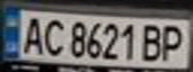1: (118, 20, 142, 61)
2: (100, 20, 124, 61)
6: (84, 19, 106, 61)
8: (66, 18, 87, 58)
A: (18, 13, 48, 55)
B: (139, 20, 169, 62)
C: (39, 16, 69, 56)
P: (157, 21, 190, 62)
